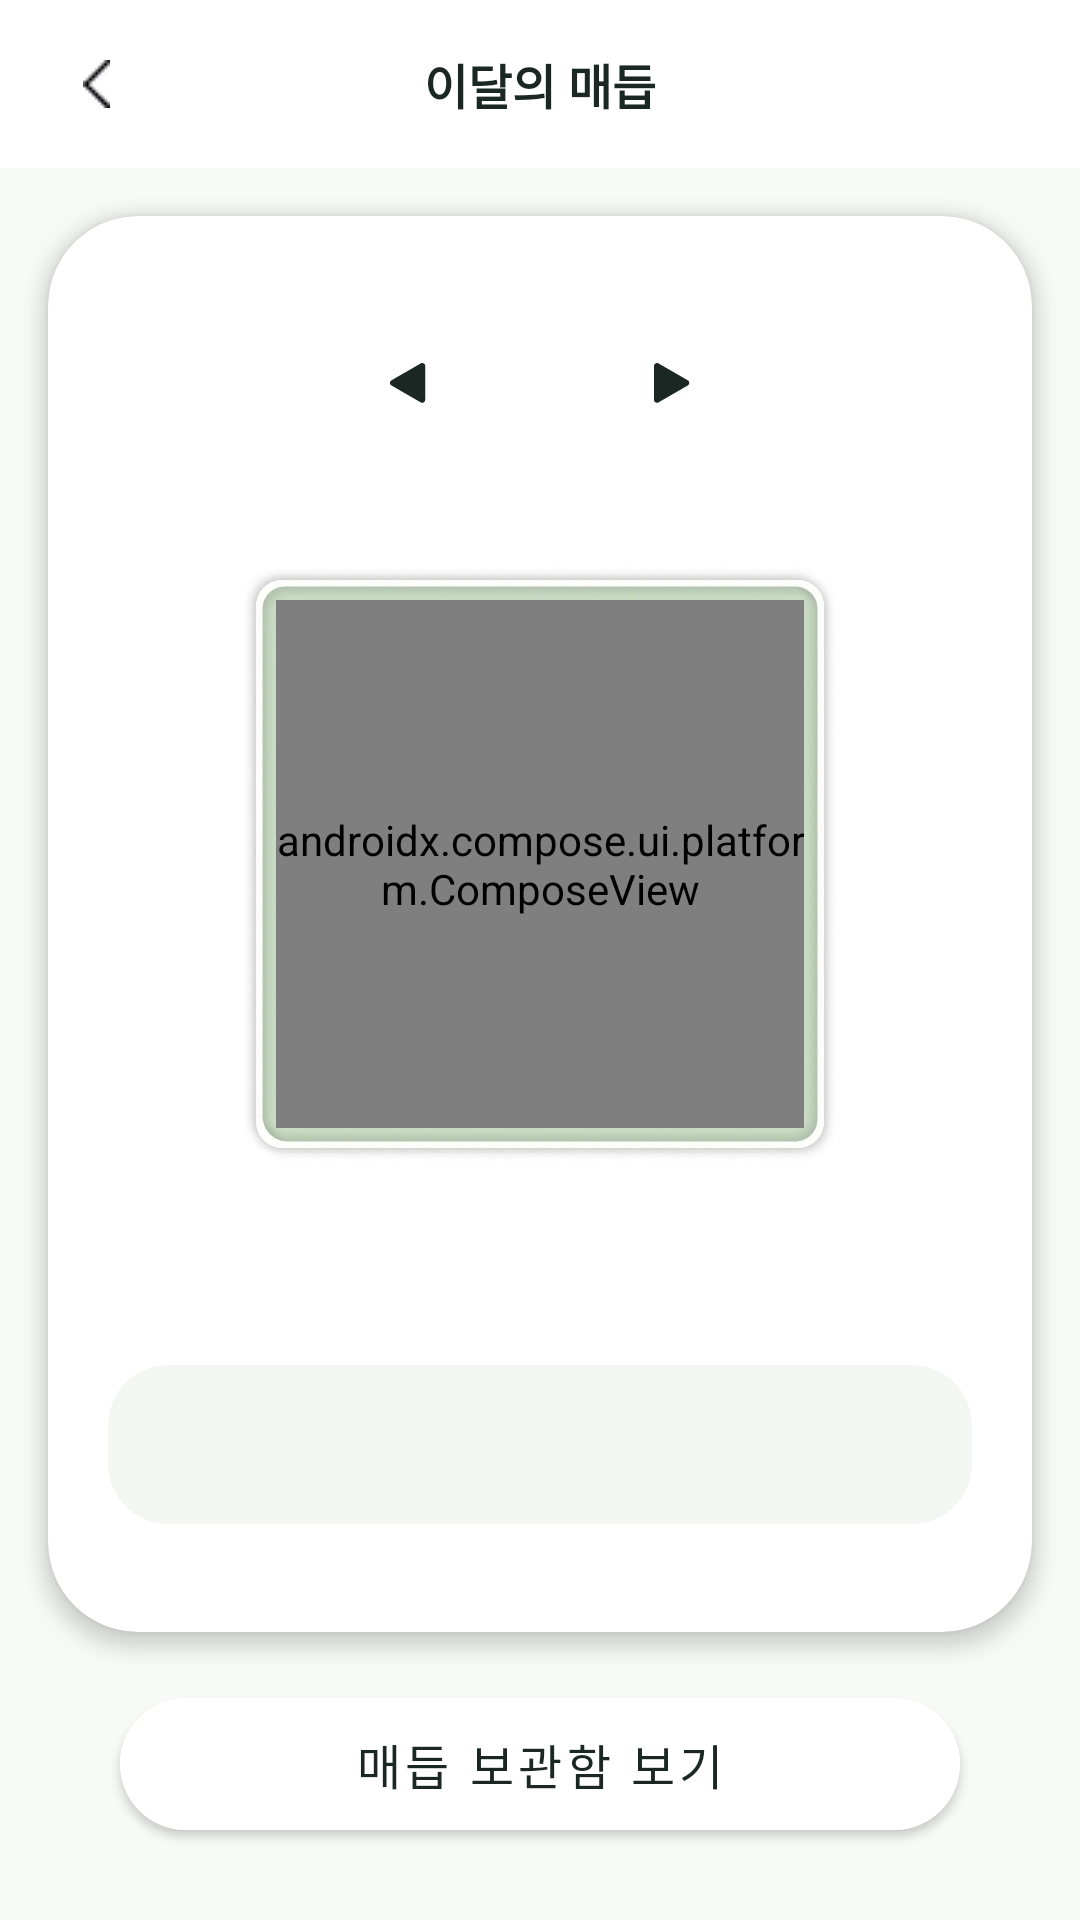

Point at icon controls on the screen. Image size 1080w x 1920h, points as (x=x, y=y).
다음: (x=672, y=383)
뒤로: (x=96, y=84)
이전: (x=408, y=383)
